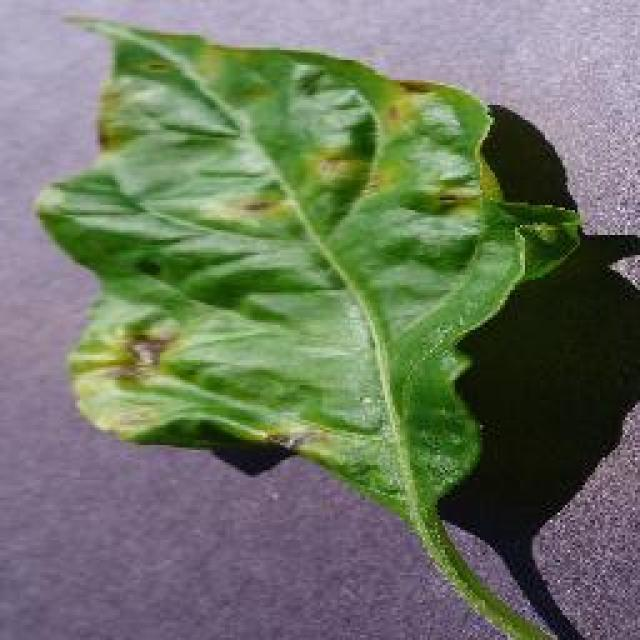Chilli_Bacterial_Spot: (30, 10, 638, 638), (63, 68, 505, 458), (65, 295, 300, 457), (65, 298, 190, 440), (108, 315, 182, 387), (198, 182, 298, 232), (302, 140, 368, 192), (228, 187, 290, 225), (123, 333, 165, 375), (430, 183, 482, 215)
